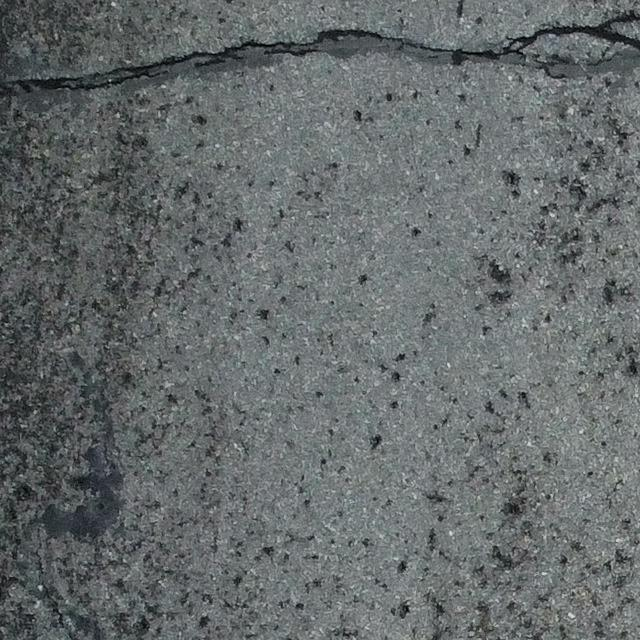TransverseCrack: (1, 15, 640, 94)
